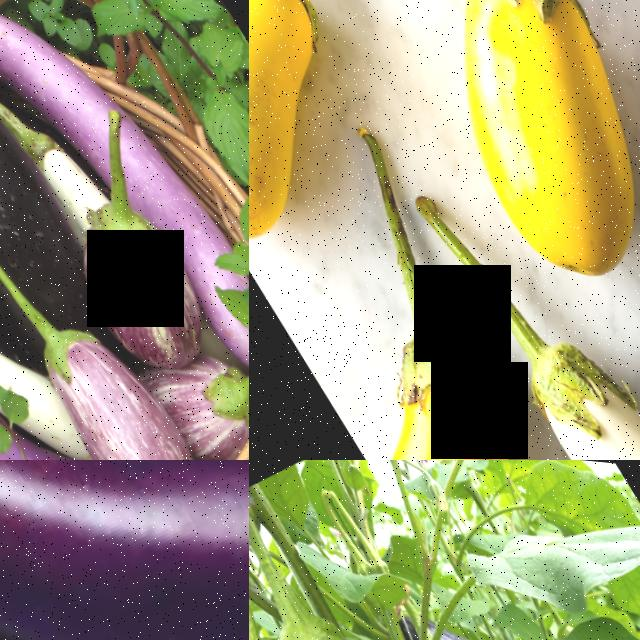eggplant: (362, 0, 640, 305), (296, 290, 580, 460), (0, 460, 249, 640), (249, 0, 412, 264), (45, 181, 220, 378), (12, 292, 202, 460), (0, 62, 99, 341), (485, 283, 640, 460), (566, 0, 640, 344), (249, 584, 588, 640), (134, 323, 249, 460)
